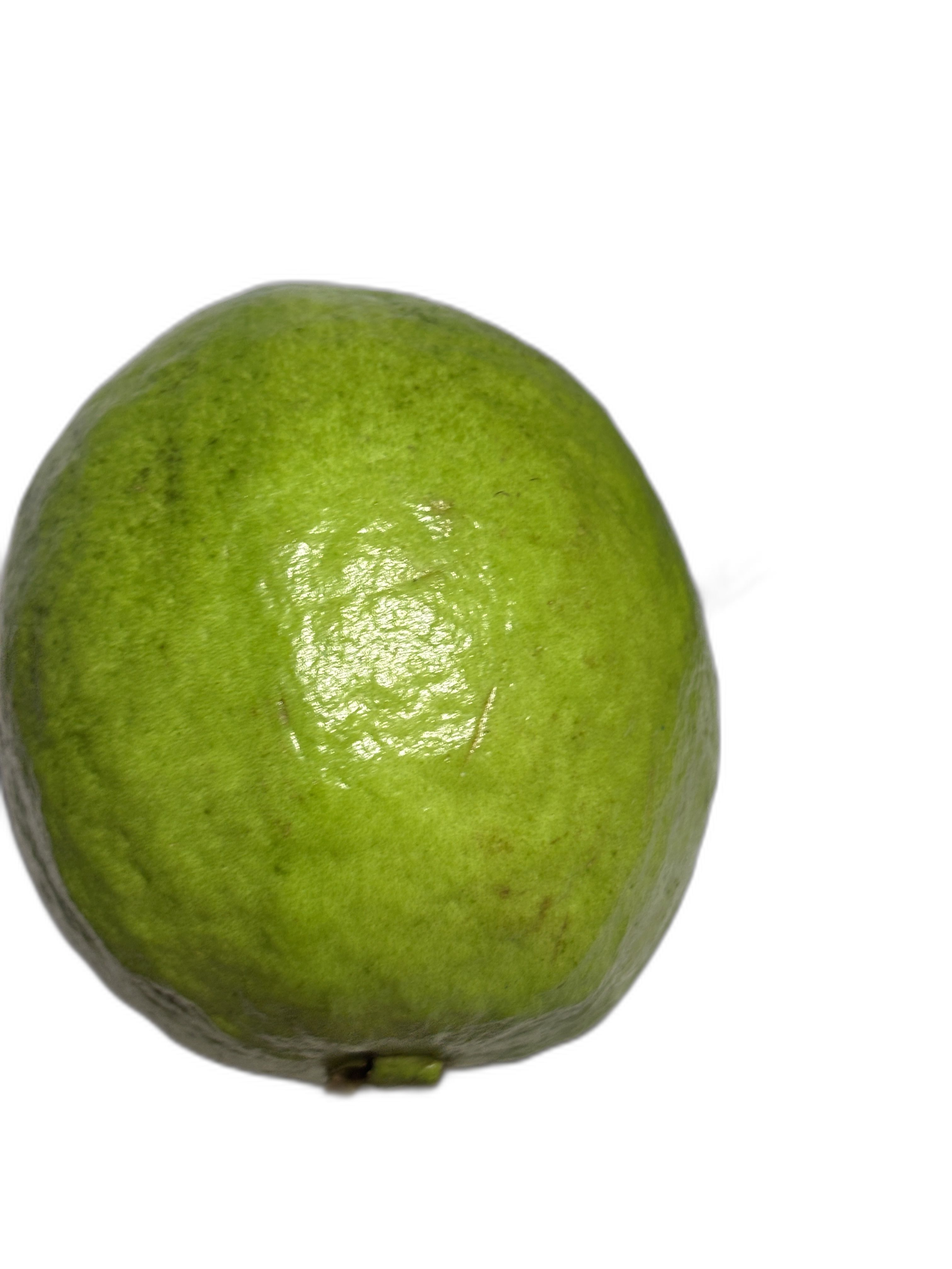guava: (162, 203, 884, 1193)
